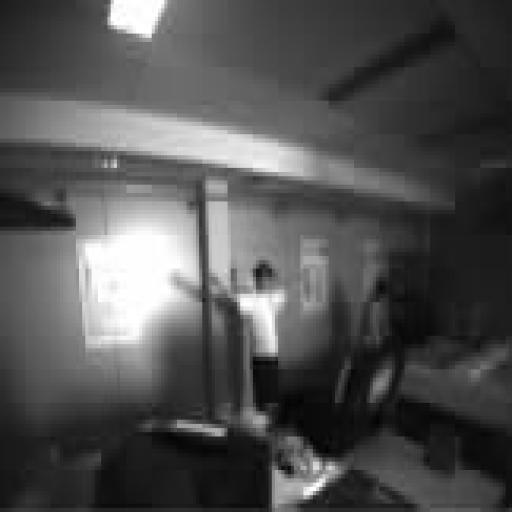human: (234, 261, 287, 419), (359, 276, 393, 357)
